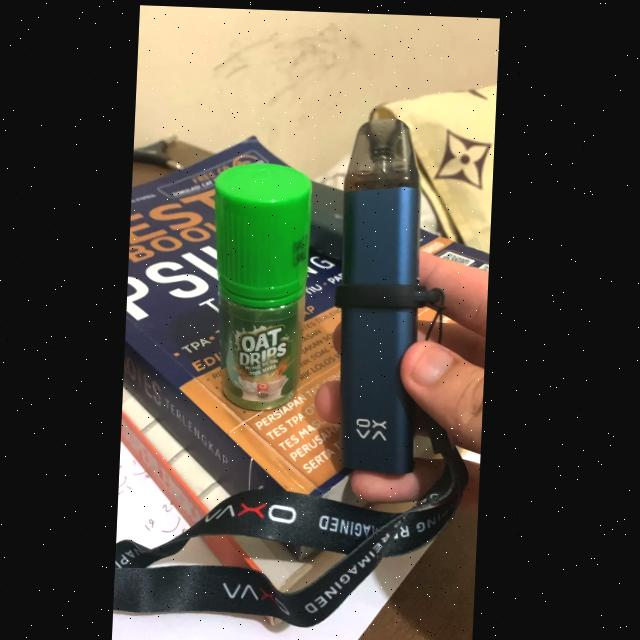vape: (332, 113, 434, 476)
